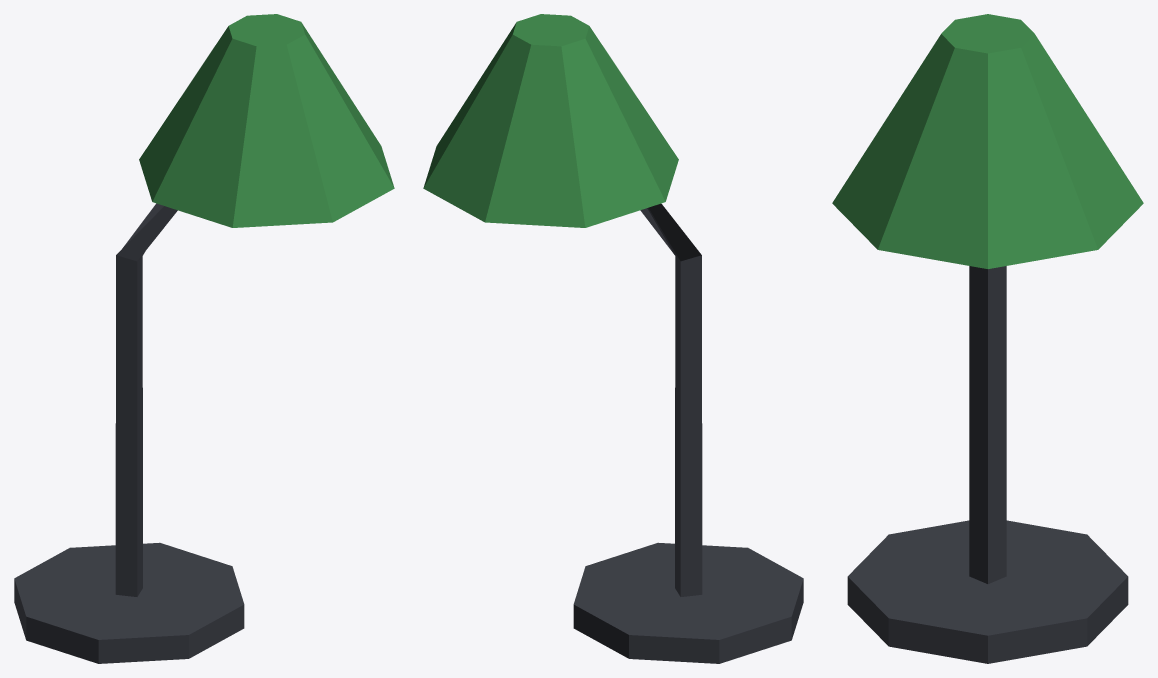
File: desk_lamp.fbx
The picture shows the model from 3 angles, left to right: view 1: azimuth 30°, elevation 25°; view 2: azimuth 150°, elevation 25°; view 3: azimuth 270°, elevation 25°; orthographic projection. The views are drawn at different scales.
Parts seen in each view (by area): view 1: desk_lamp; view 2: desk_lamp; view 3: desk_lamp.
Part boxes in pixels (<box>): desk_lamp: <box>14,14,394,663</box>; desk_lamp: <box>423,14,803,663</box>; desk_lamp: <box>832,14,1143,663</box>.
Size of the model in its own units: 0.31 by 0.46 by 0.2.
